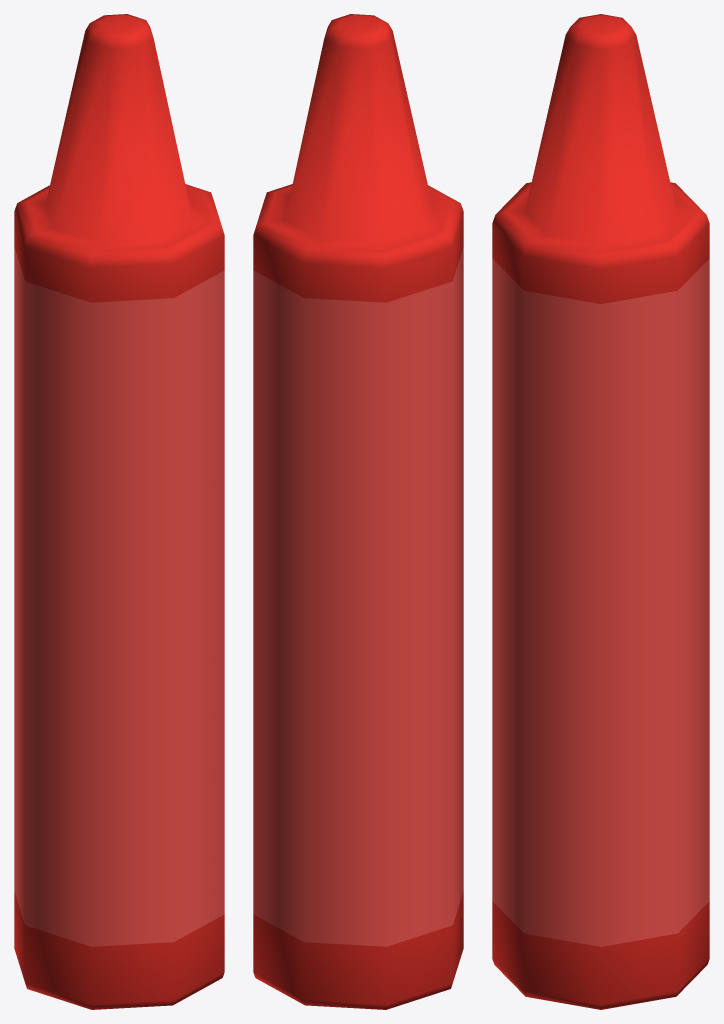
Rendered from CrayonRed.fbx.
3 views of the same model, side by side, from view 1: azimuth 30°, elevation 25°; view 2: azimuth 150°, elevation 25°; view 3: azimuth 270°, elevation 25° (orthographic).
Parts seen in each view (by area): view 1: CrayonRed; view 2: CrayonRed; view 3: CrayonRed.
Boxes of the visible parts, <box> form: CrayonRed: <box>14,14,224,1009</box>; CrayonRed: <box>253,14,463,1009</box>; CrayonRed: <box>492,14,709,1009</box>.
Size of the model in its own units: 2.1 by 10.01 by 2.1.
